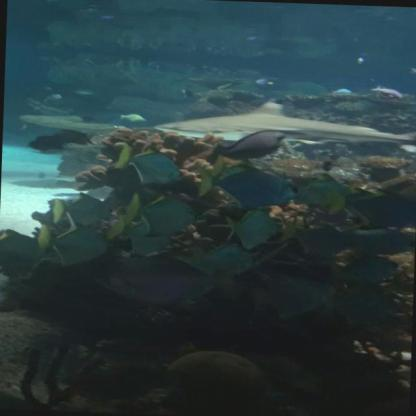fish: (94, 252, 210, 304), (194, 161, 296, 209), (338, 187, 416, 231), (250, 279, 327, 321), (36, 221, 108, 265), (113, 140, 182, 184), (323, 285, 395, 327), (127, 192, 193, 236), (210, 127, 284, 165), (0, 228, 48, 280), (108, 216, 170, 255), (280, 224, 349, 258), (298, 174, 360, 209), (338, 226, 409, 256), (223, 208, 276, 248), (52, 192, 112, 226), (192, 244, 252, 277), (338, 256, 396, 284), (368, 84, 406, 101), (118, 112, 148, 123), (71, 86, 95, 96), (329, 88, 353, 96), (255, 78, 276, 86), (98, 14, 114, 20), (244, 35, 260, 41), (355, 56, 365, 65), (407, 67, 415, 77)
shark: (151, 95, 416, 149)
